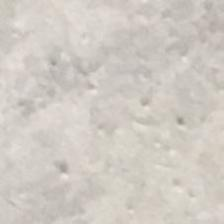Non_Crack: (37, 41, 221, 198)
